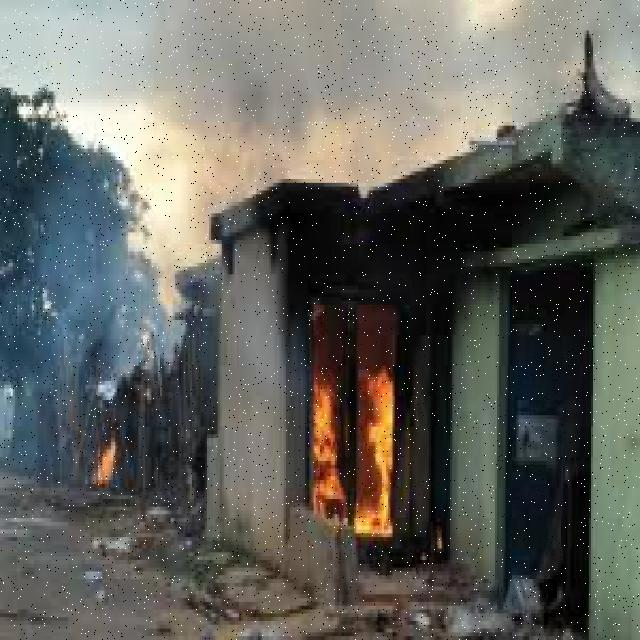fire: (308, 368, 420, 528), (86, 430, 125, 480)
